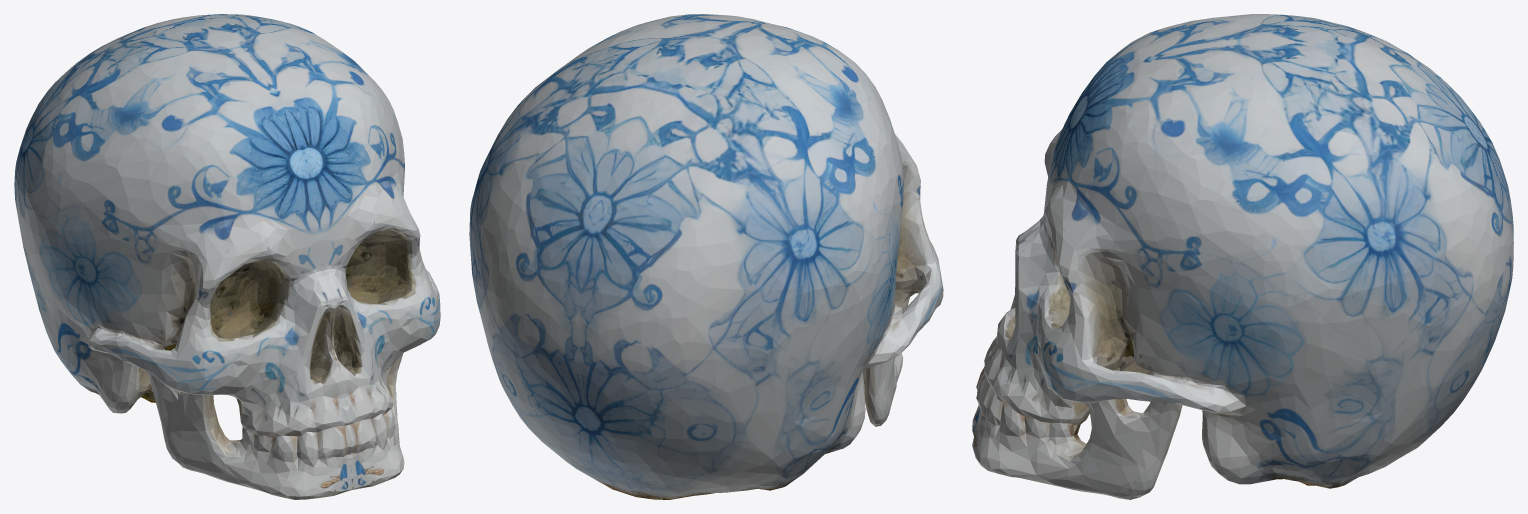
File: Skull_Procelain.fbx
3 views of the same model, side by side, from view 1: azimuth 30°, elevation 25°; view 2: azimuth 150°, elevation 25°; view 3: azimuth 270°, elevation 25° (orthographic). The views are drawn at different scales.
Visible parts, largest first — view 1: 物件_1, 物件_2; view 2: 物件_1, 物件_2; view 3: 物件_2, 物件_1.
Part boxes in pixels (box(x1,y1,x2,y2)): 物件_1: box(14, 20, 353, 499); 物件_2: box(168, 14, 440, 489); 物件_1: box(578, 22, 943, 499); 物件_2: box(469, 14, 768, 496); 物件_2: box(972, 40, 1513, 499); 物件_1: box(972, 14, 1513, 435).
Size of the model in its own units: 589 by 604 by 730.
1 material, 1 textured.
